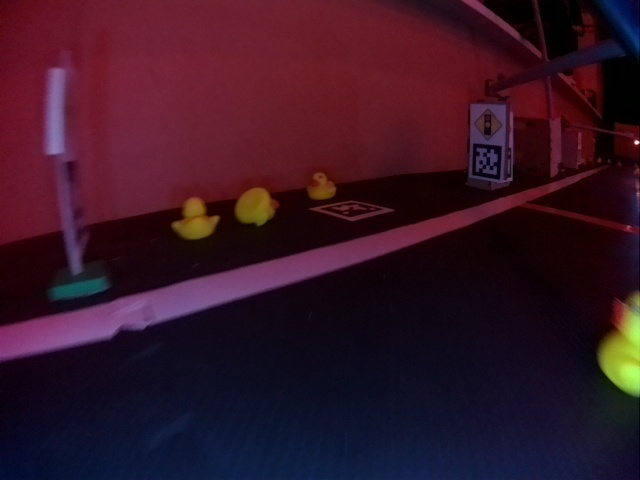Duckie: (602, 290, 639, 399), (172, 198, 219, 236), (236, 188, 278, 225), (308, 173, 336, 200)
QR code: (311, 201, 394, 221), (472, 143, 502, 180)
Signal sign: (473, 107, 503, 138)
